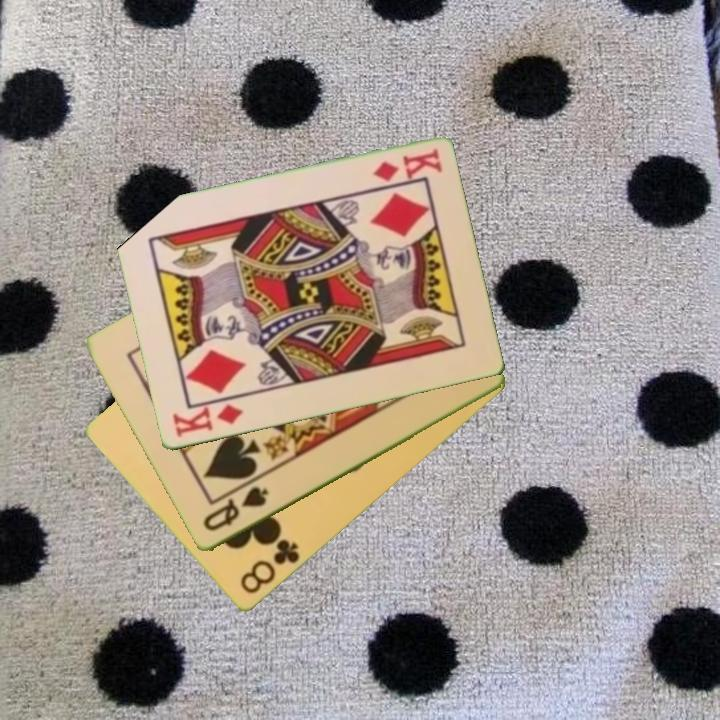8c: (236, 536, 303, 598)
Kd: (168, 400, 246, 441), (369, 146, 445, 185)
Qs: (199, 483, 271, 535)
